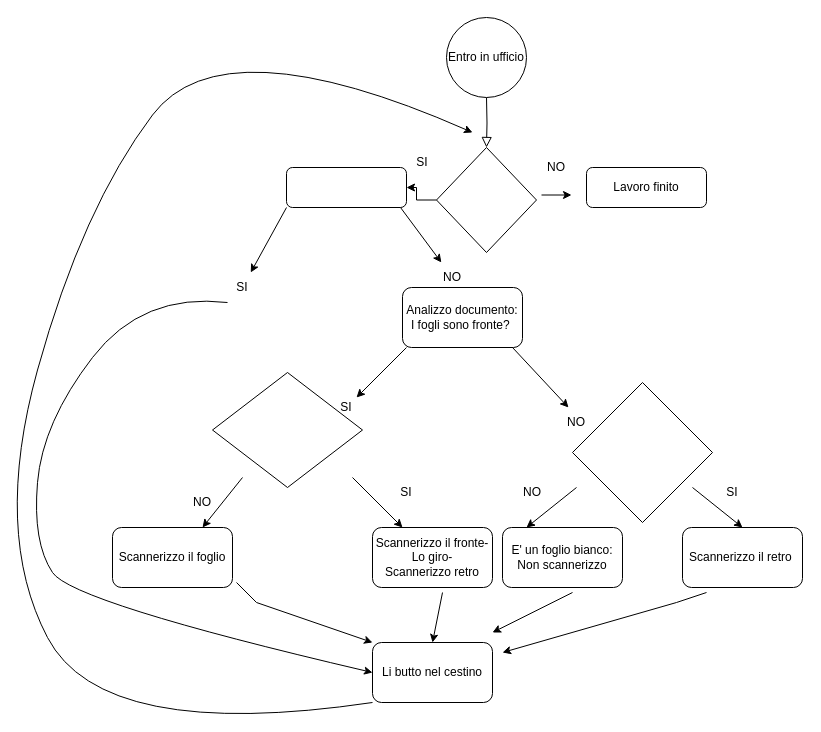
This 821x732 diagram has some shape labels left out. Here are the shapes that lost their labels. From the top down, the centre of each, then its label:
At point (346, 187): "Sono scansionati?".
At point (486, 199): "Abbiamo un foglio in ufficio".
At point (287, 430): "Analizzo il documento: Il foglio è retro?".
At point (642, 452): "Analizzo il doc: i fogli hanno un retro".
